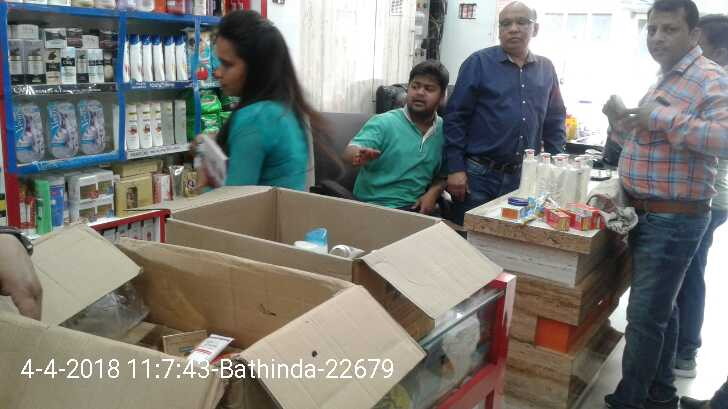venus: (49, 101, 76, 159), (16, 102, 41, 163), (79, 100, 104, 151)
